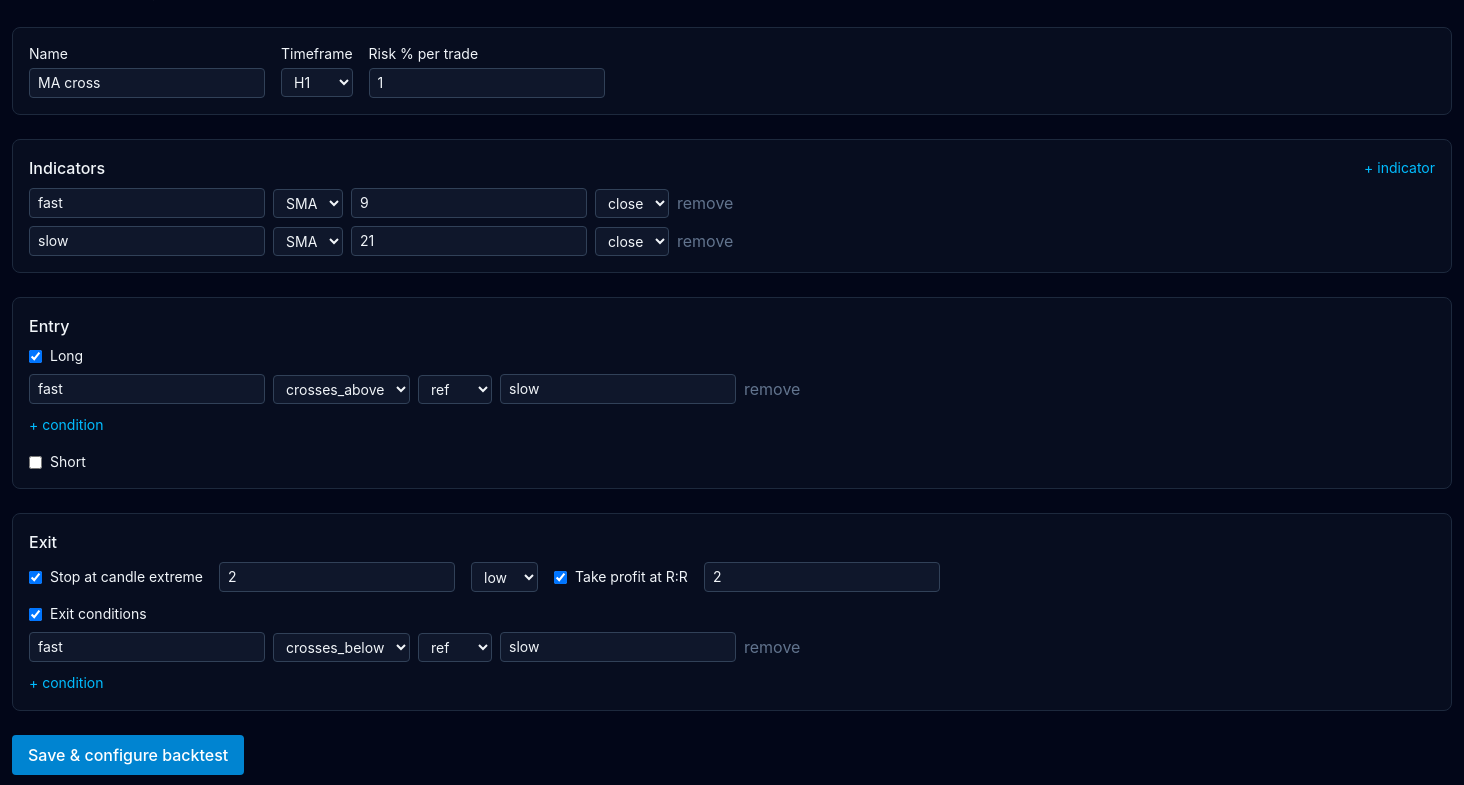
StrategyBuilder › blocks saving and shows errors when the strategy is invalid
Clear the field labelled "Name" at (147, 83), box 29,68 -> 265,98
(page scrolled)
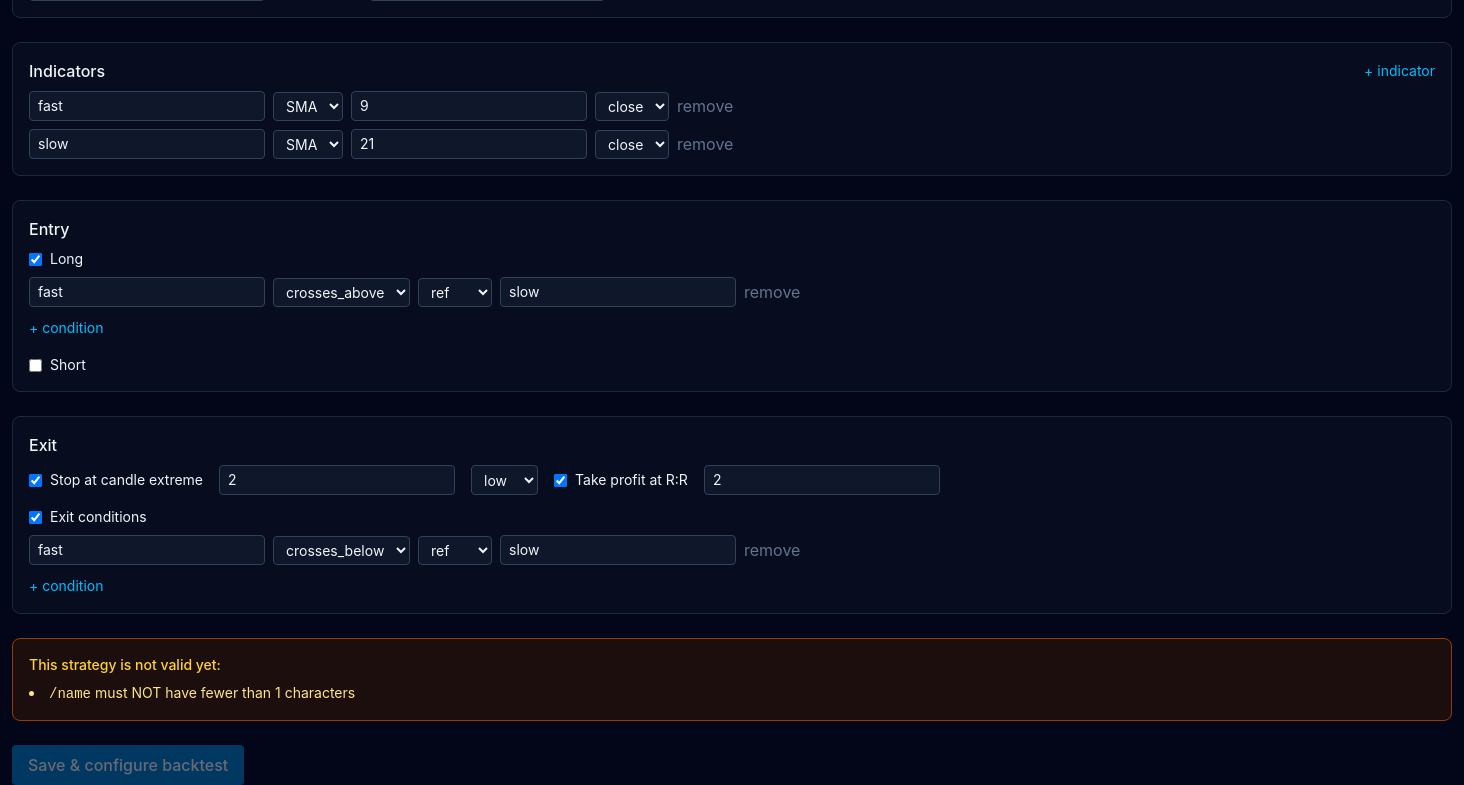
Expected: the text "This strategy is not valid yet:" is shown, 29,656 -> 221,673
Expected: the button "Save & configure backtest" is disabled, 12,745 -> 244,784
